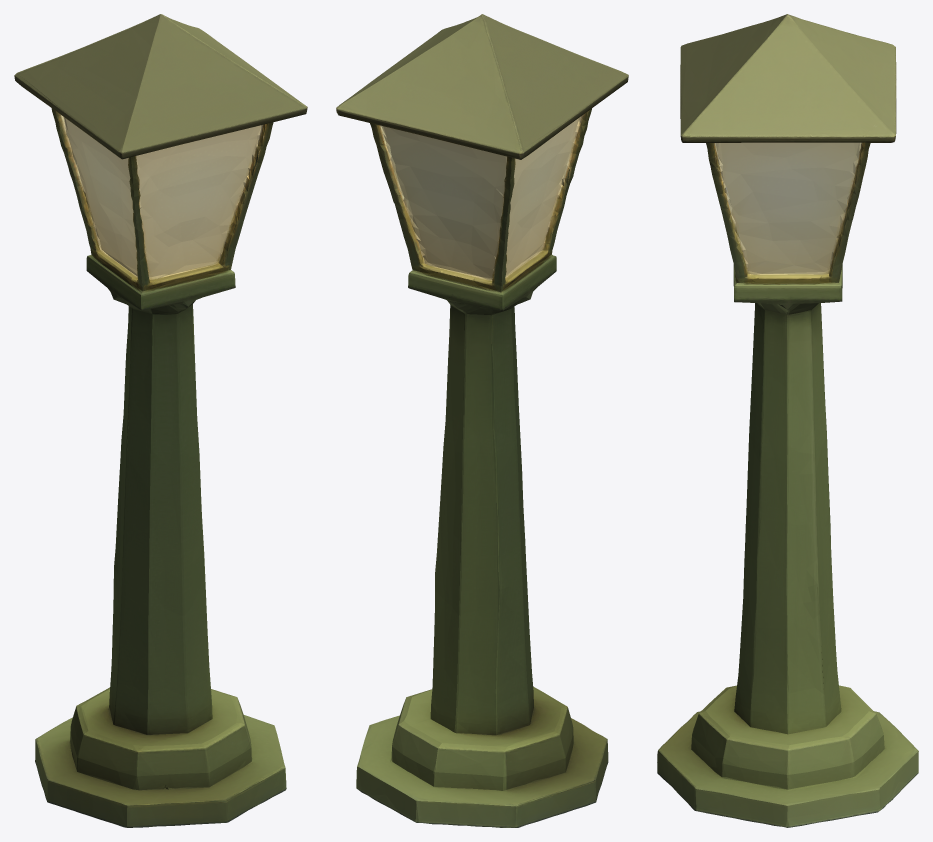
Rendered from street_lamp.glb.
The picture shows the model from 3 angles, left to right: view 1: azimuth 30°, elevation 25°; view 2: azimuth 150°, elevation 25°; view 3: azimuth 270°, elevation 25°; orthographic projection.
Visible parts, largest first — view 1: world; view 2: world; view 3: world.
Boxes of the visible parts, box(x1,y1,x2,y2) form: world: box(14, 14, 307, 827); world: box(336, 14, 628, 827); world: box(657, 14, 918, 827).
Bounding box in the file's own units: 0.3119 × 0.9981 × 0.312.
Materials: 1 (1 with a texture image).
